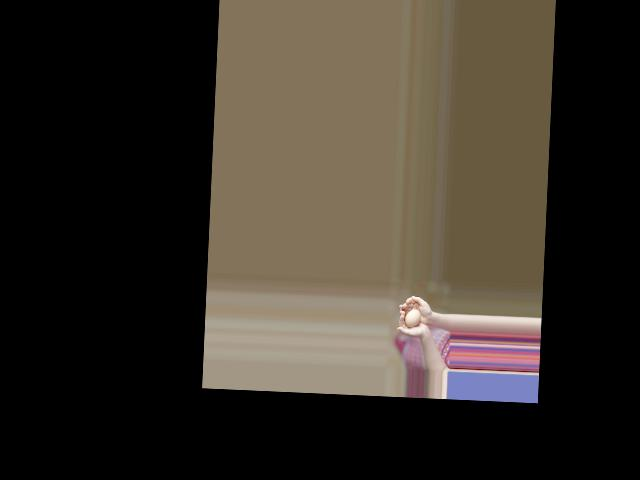egg: (404, 309, 420, 328)
